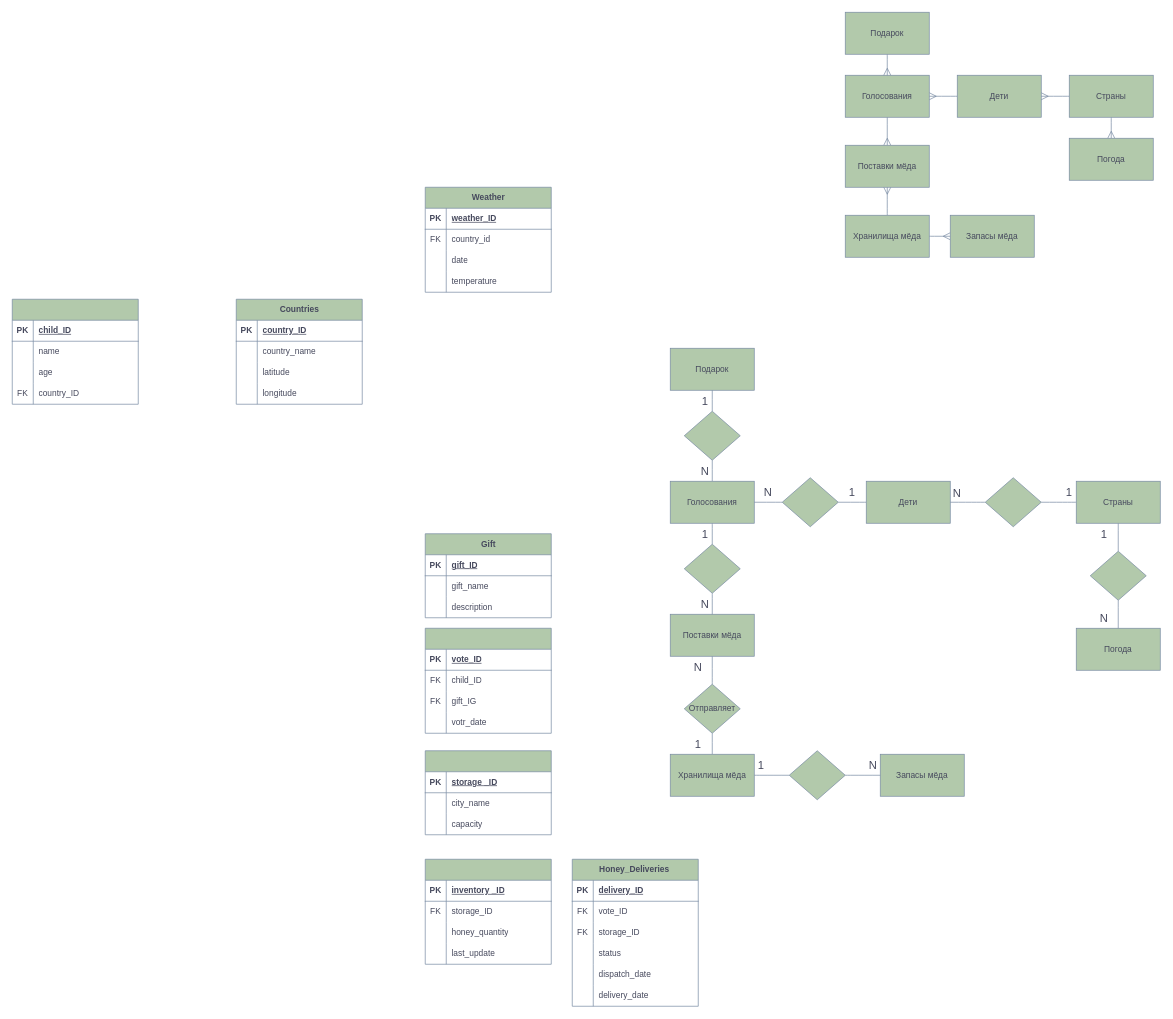
This 1173x1019 diagram has some shape labels left out. Each missing label, with the box of its shape:
Children: (12, 299, 138, 404)
Honey_Inventory: (425, 859, 551, 964)
Honey_storage: (425, 750, 551, 835)
Votes: (425, 628, 551, 733)
Включает: (985, 477, 1041, 527)
Выбирает: (684, 411, 740, 460)
Делает: (782, 477, 838, 527)
Имеет: (1090, 551, 1146, 600)
Формирует: (684, 544, 740, 593)
Хранит: (789, 750, 845, 800)
